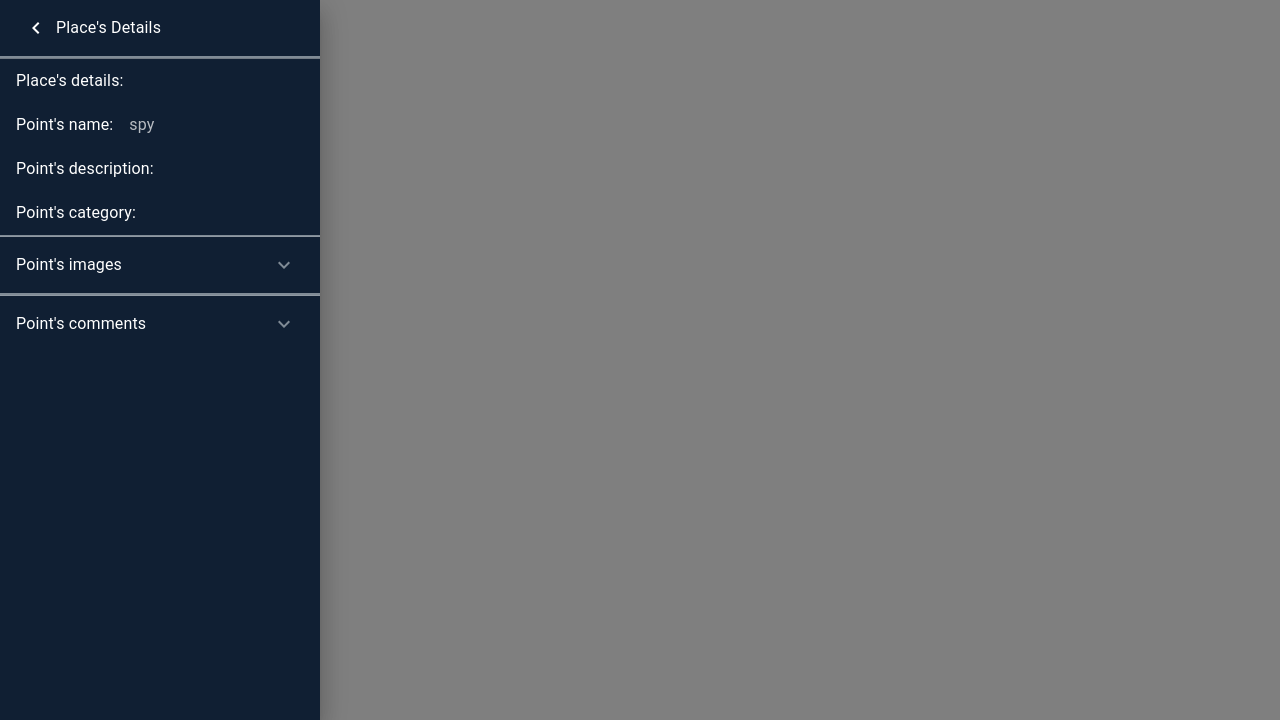
Scenario: opening certain point' s images
Step 1. Click the button with test id "openImages" → click(69, 265), box left=0, top=237, right=320, bottom=293
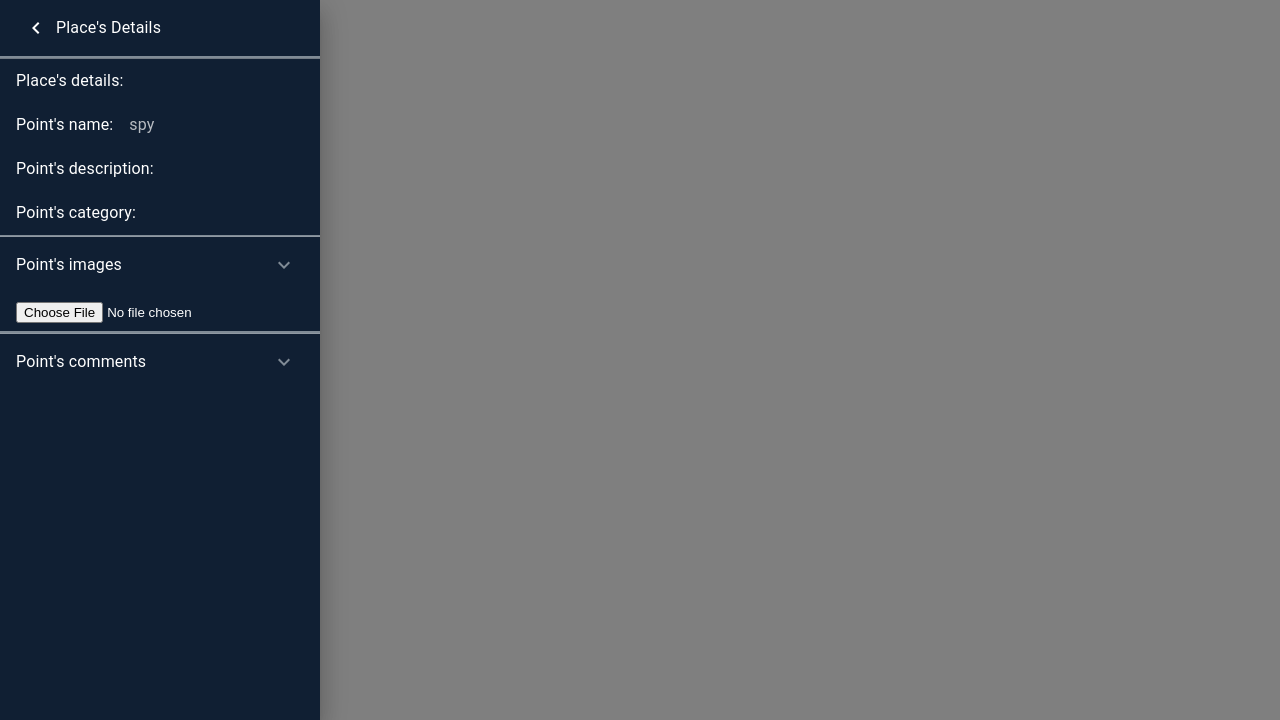
Now the list item with test id "uploader" is shown, box left=16, top=302, right=269, bottom=323
